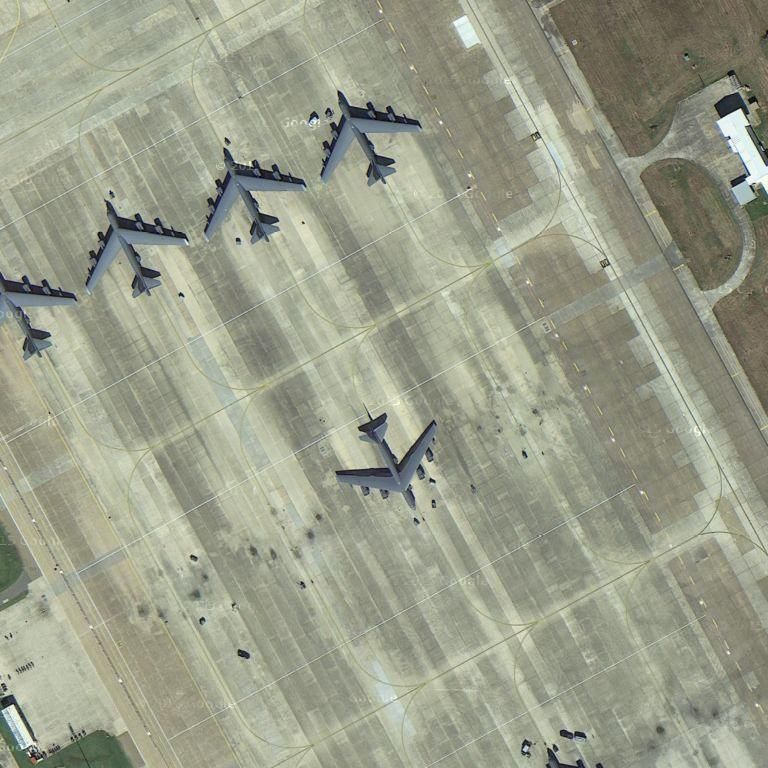B-52: (331, 407, 445, 513), (313, 91, 425, 192), (199, 150, 308, 251), (74, 207, 191, 300), (2, 265, 80, 365)
